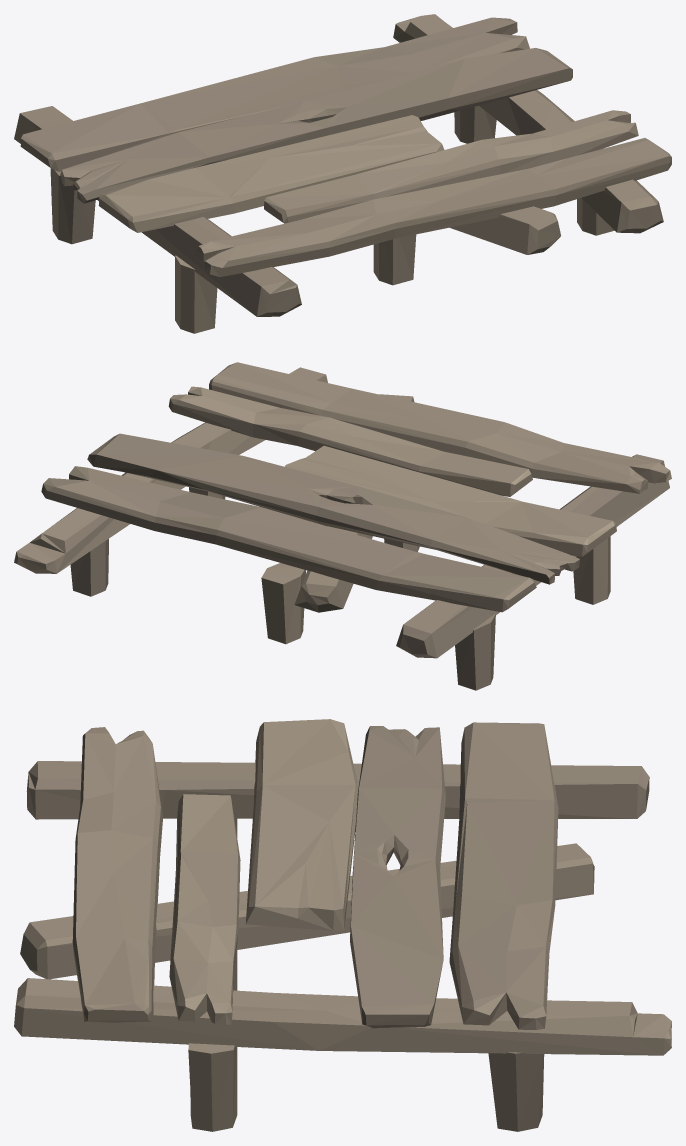
The model's file is bridge_pier_04b.glb.
The picture shows the model from 3 angles, top to bottom: view 1: azimuth 30°, elevation 25°; view 2: azimuth 150°, elevation 25°; view 3: azimuth 270°, elevation 25°; orthographic projection. The views are drawn at different scales.
Visible parts, largest first — view 1: estructura.puente.env_bridge_pier_04b; view 2: estructura.puente.env_bridge_pier_04b; view 3: estructura.puente.env_bridge_pier_04b.
Boxes of the visible parts, x1=… form: estructura.puente.env_bridge_pier_04b: x1=14, y1=14, x2=671, y2=333; estructura.puente.env_bridge_pier_04b: x1=14, y1=362, x2=671, y2=690; estructura.puente.env_bridge_pier_04b: x1=14, y1=719, x2=671, y2=1131.
Size of the model in its own units: 2.24 by 0.4812 by 2.06.
